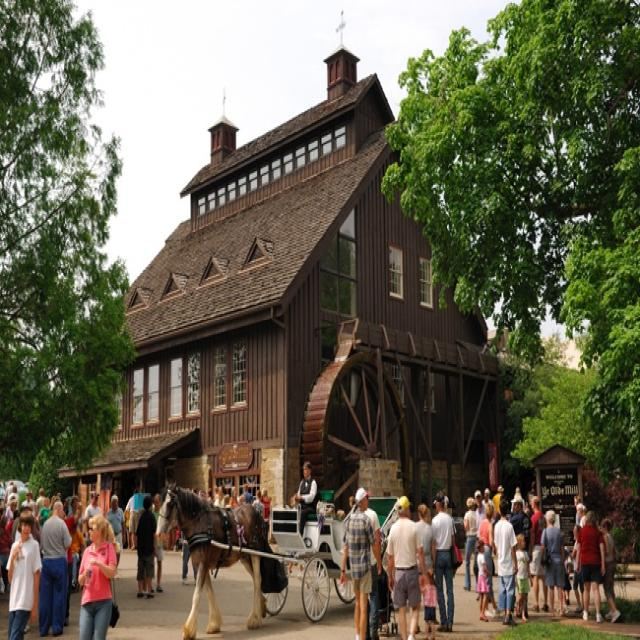body: (339, 486, 382, 638), (386, 493, 428, 638), (75, 512, 121, 638), (4, 505, 42, 639), (430, 488, 464, 634), (38, 498, 72, 638), (573, 506, 606, 625), (492, 494, 520, 628), (358, 484, 382, 640), (539, 506, 572, 618), (477, 500, 501, 619), (528, 494, 549, 616), (135, 494, 158, 599), (599, 516, 621, 624), (294, 459, 319, 538), (513, 531, 534, 622), (472, 488, 488, 604), (462, 496, 479, 596), (414, 502, 436, 578), (105, 492, 126, 568), (569, 523, 586, 616), (187, 482, 239, 510), (122, 484, 143, 552), (152, 492, 166, 594), (476, 538, 492, 624), (69, 518, 87, 592), (419, 568, 438, 638), (16, 484, 53, 518), (508, 497, 532, 549), (83, 491, 105, 543), (0, 479, 16, 543), (562, 543, 571, 604), (480, 487, 496, 520), (490, 484, 506, 517), (124, 508, 136, 551), (251, 490, 266, 517), (261, 487, 272, 523), (572, 493, 584, 526), (575, 502, 588, 529), (69, 496, 84, 513), (242, 482, 253, 503), (443, 492, 451, 518), (286, 492, 298, 509), (346, 494, 356, 511), (82, 511, 88, 537)
